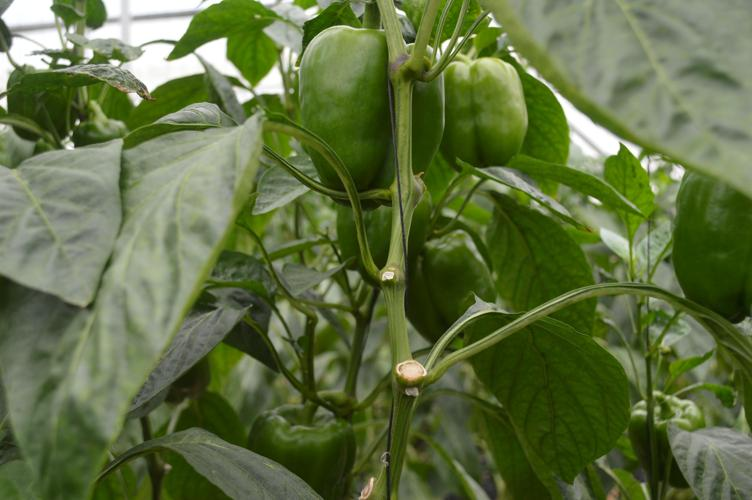BellPepper: (283, 26, 448, 207), (663, 158, 752, 317), (431, 44, 534, 170), (246, 398, 365, 500), (411, 228, 506, 354), (328, 167, 409, 277)
